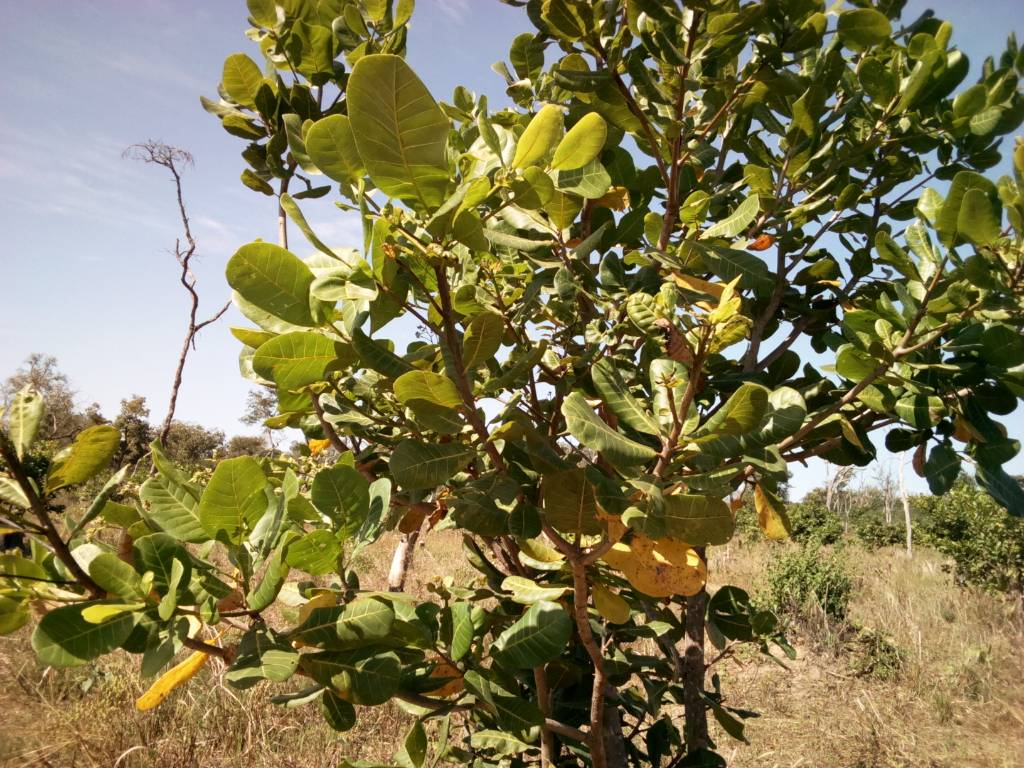Anthracnose: (614, 536, 707, 597)
